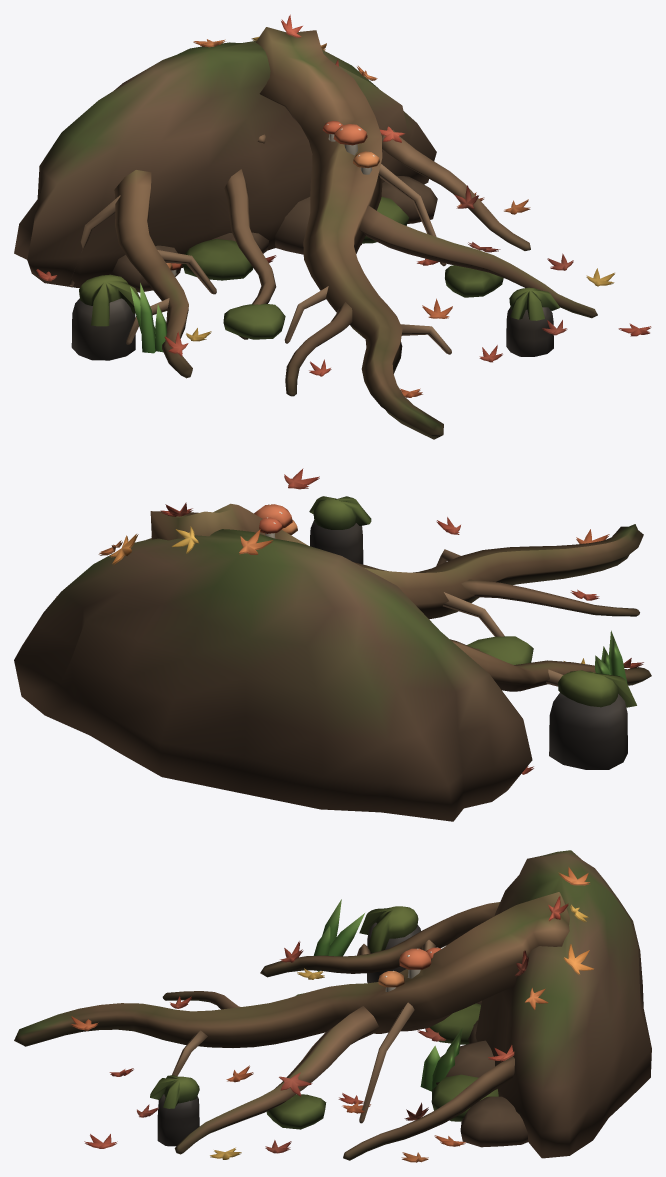
The model's file is dg-maple-rootTangle-v1.glb.
3 views of the same model, one above another, from view 1: azimuth 30°, elevation 25°; view 2: azimuth 150°, elevation 25°; view 3: azimuth 270°, elevation 25° (orthographic). The views are drawn at different scales.
Parts seen in each view (by area): view 1: stone, body, leaf; view 2: stone, body, leaf; view 3: stone, body, leaf.
Part boxes in pixels (x1=…): stone: x1=14, y1=40, x2=559, y2=360; body: x1=69, y1=27, x2=597, y2=439; leaf: x1=36, y1=14, x2=651, y2=397; stone: x1=14, y1=496, x2=636, y2=821; body: x1=150, y1=503, x2=651, y2=691; leaf: x1=56, y1=468, x2=643, y2=774; stone: x1=150, y1=850, x2=651, y2=1158; body: x1=14, y1=892, x2=569, y2=1160; leaf: x1=70, y1=867, x2=593, y2=1162.
Size of the model in its own units: 2.34 by 1 by 2.74.
